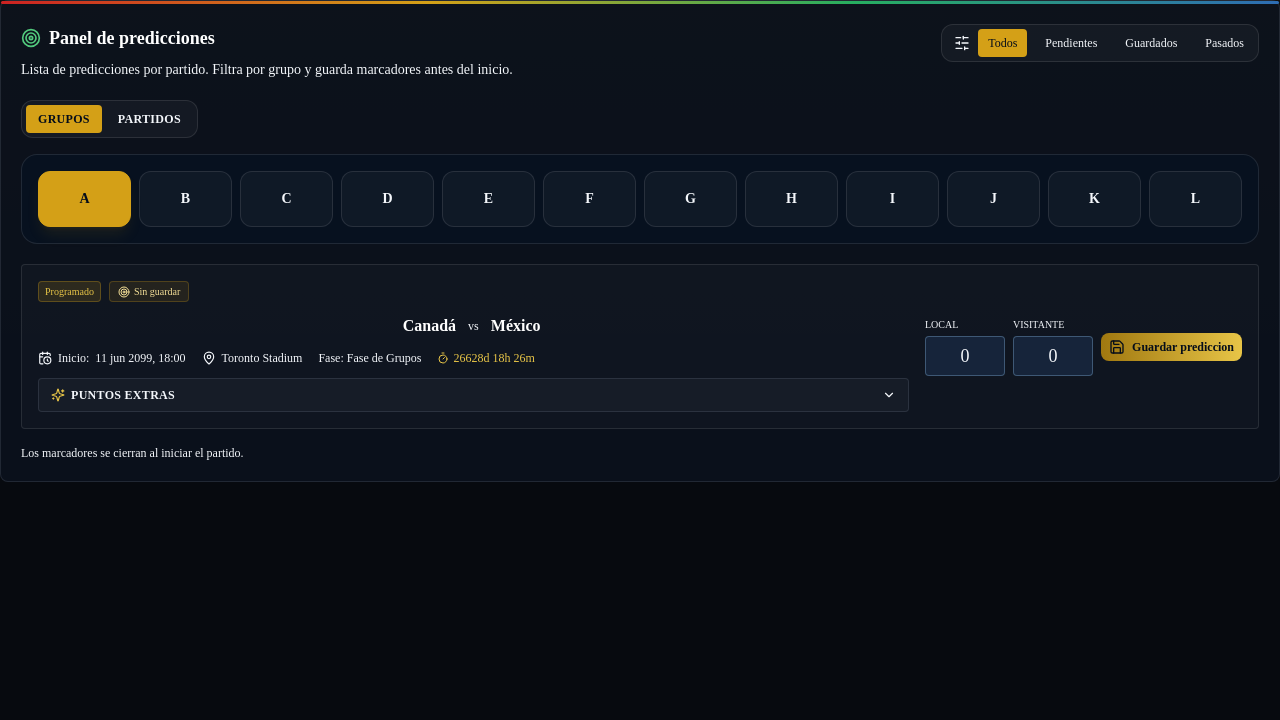
PredictionPanel › submits a new prediction for a scheduled match
Expected: the text "Canadá" is shown, [403,317,456,334]
Replace the text in the number field labelled "Local" with "2" at (965,356), box [925,336,1005,376]
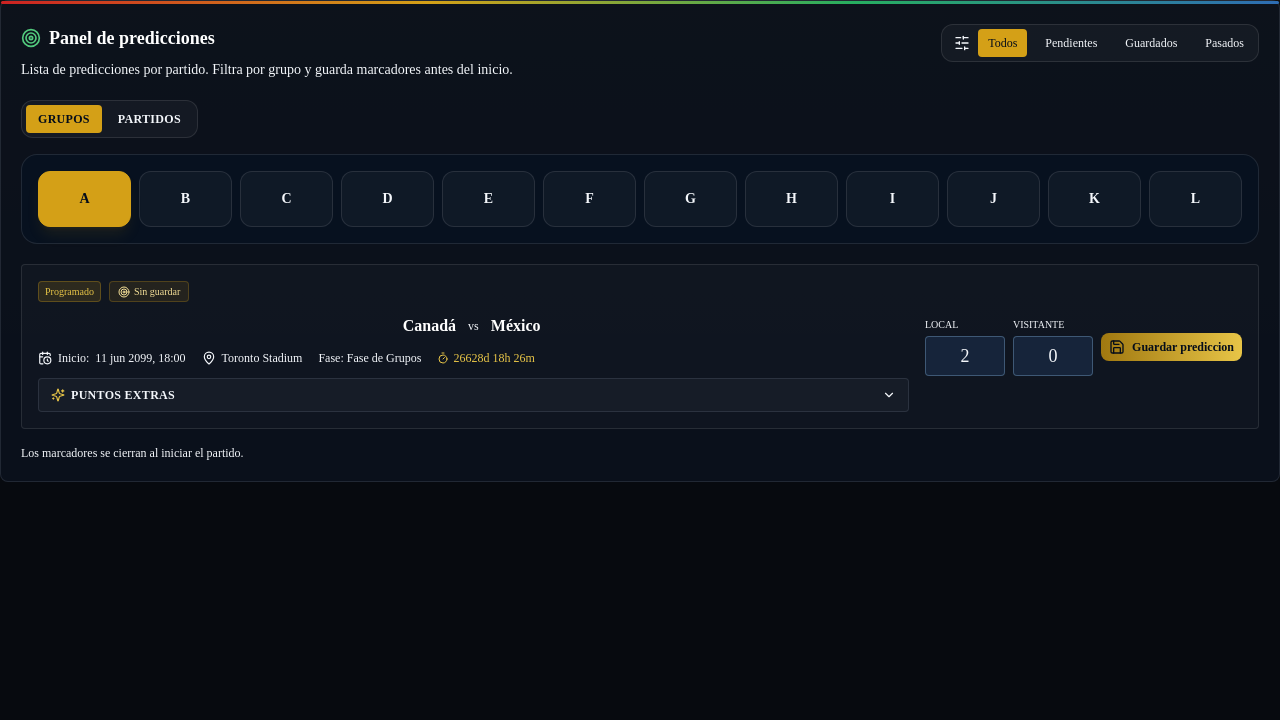
Replace the text in the number field labelled "Visitante" with "1" at (1053,356), box [1013,336,1093,376]
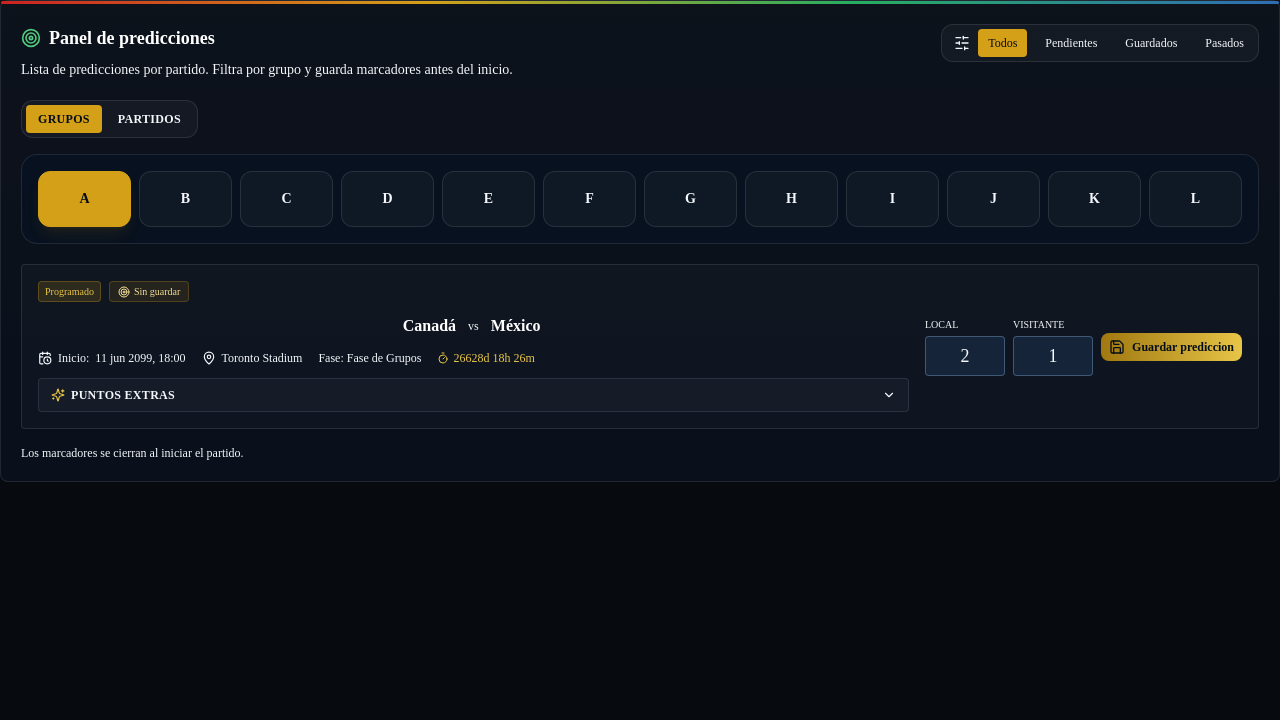
Click the button "Guardar prediccion" at (1171,346), box [1101,332,1242,360]
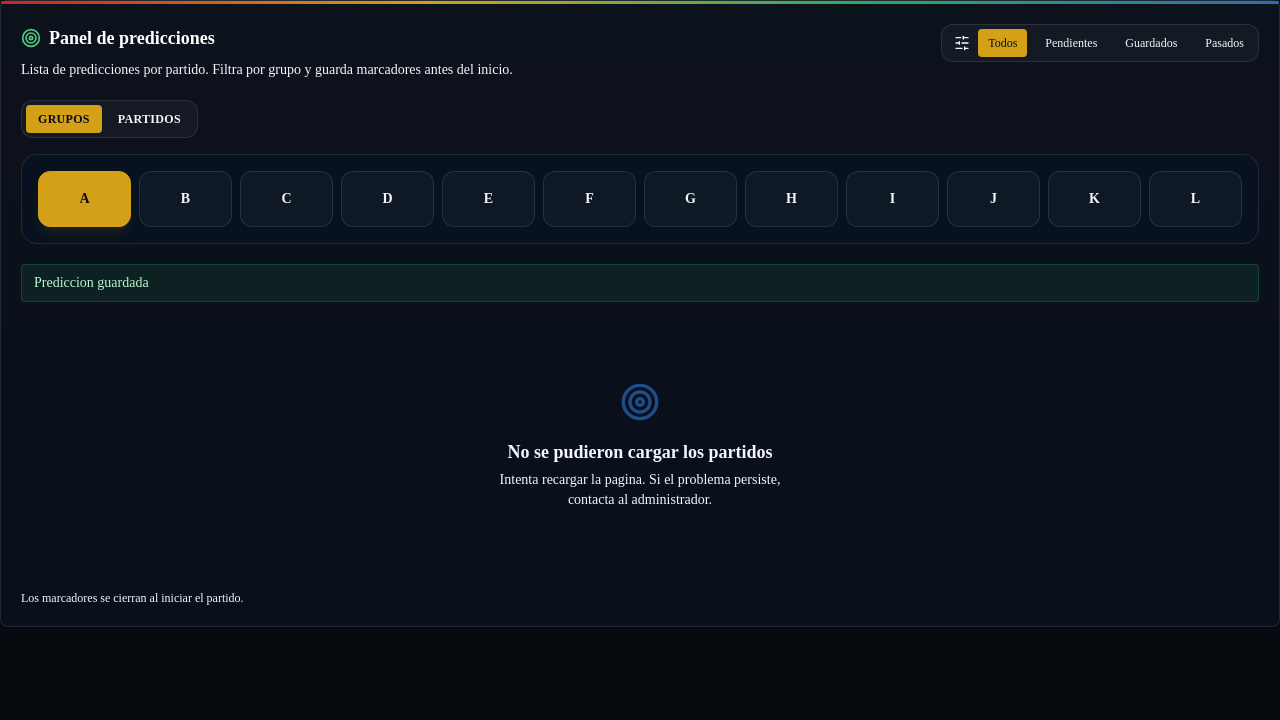
Now the text "Prediccion guardada" is shown, box [21,264,1259,302]
